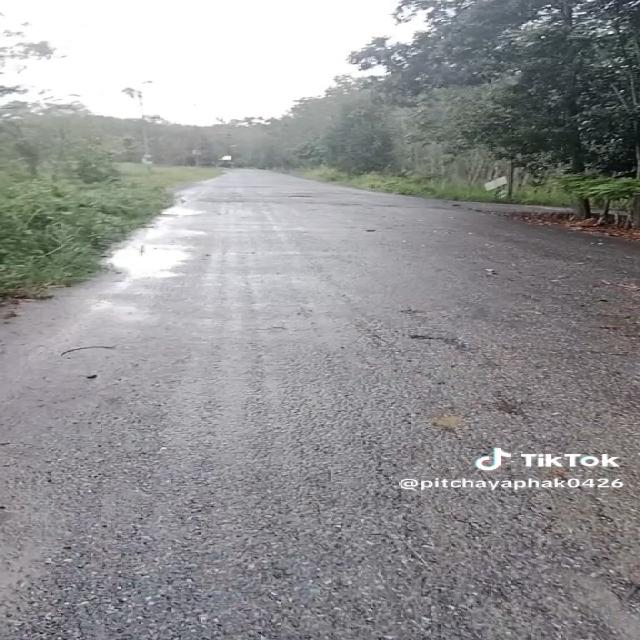Poth-hole: (286, 185, 340, 207)
